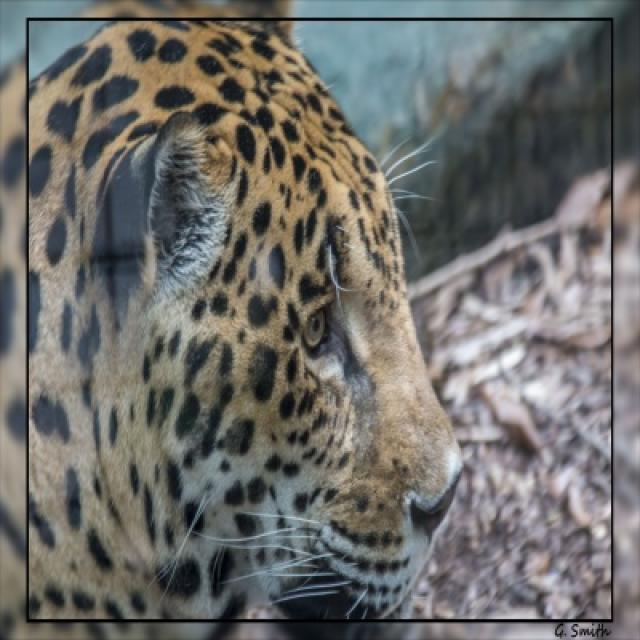Jaguar: (19, 16, 464, 629)
